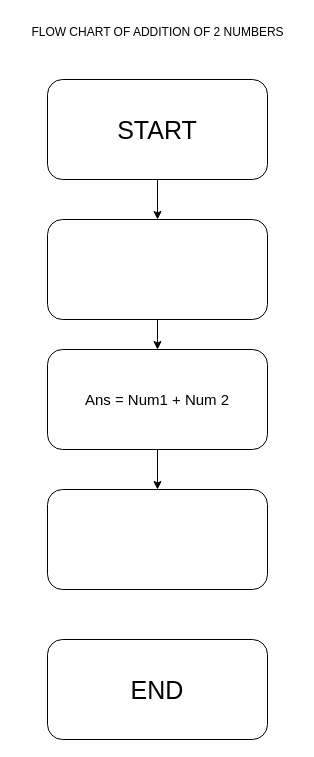
Some shapes in this 314 by 757 pixel diagram are drawn without their labels. Each missing label, with the centre of its shape:
"Ans" goes at [157,539].
"Num1 Num2" goes at [157,269].
